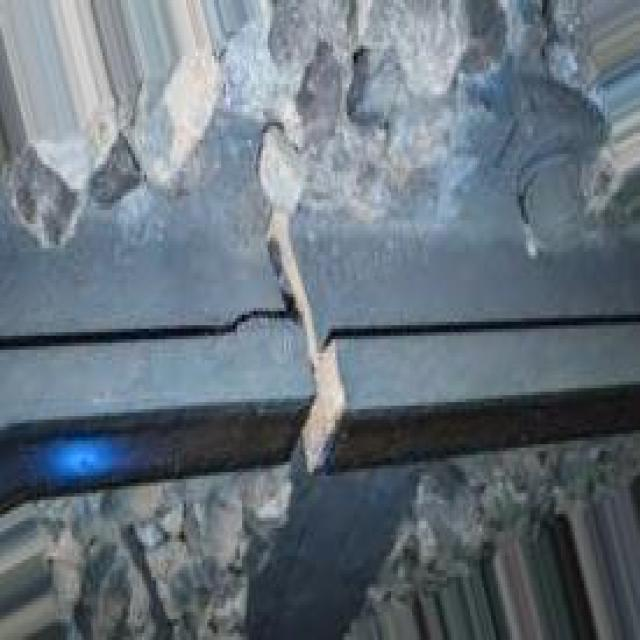crack: (248, 183, 358, 465)
